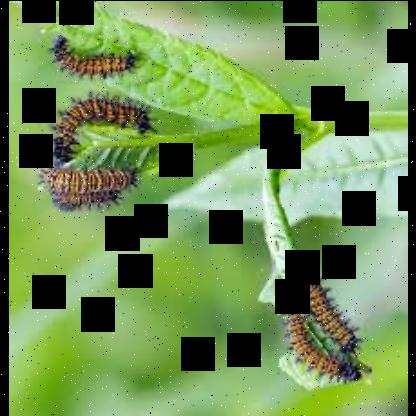oruga: (274, 267, 374, 385), (38, 91, 166, 163), (31, 28, 145, 78), (30, 162, 138, 212)
